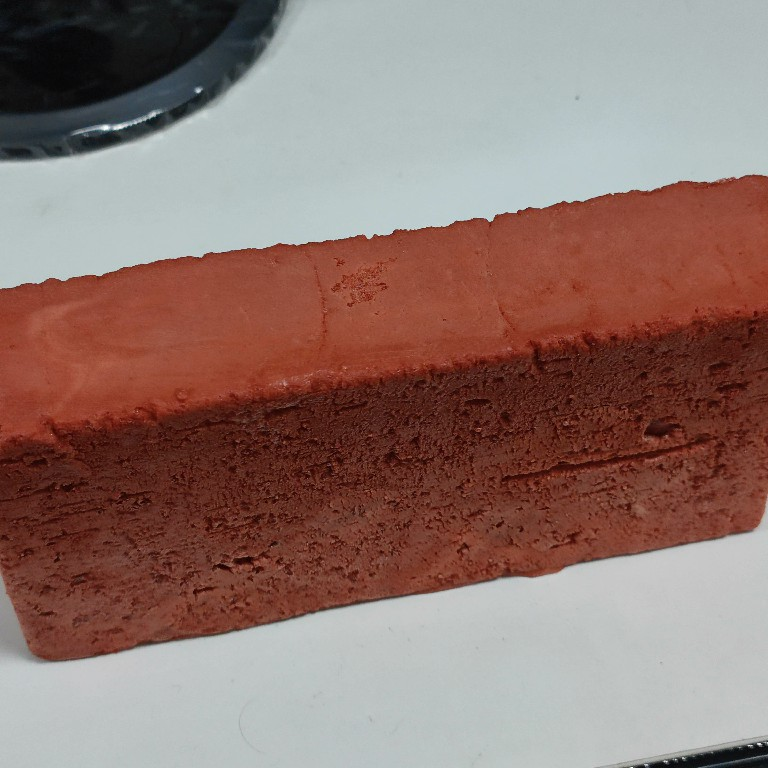brick: (1, 170, 768, 667)
